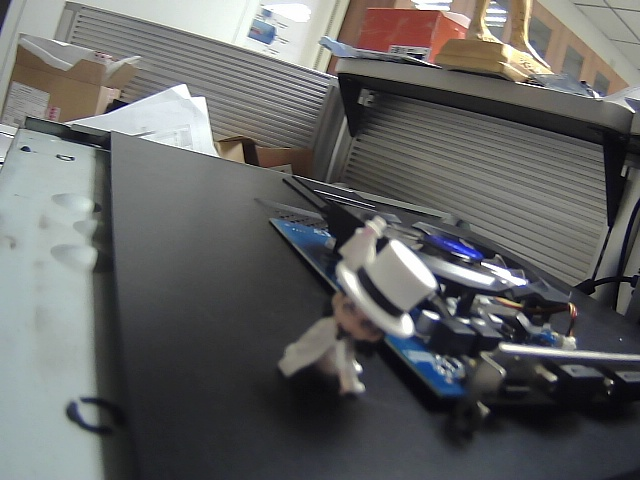lucci: (260, 210, 443, 418)
